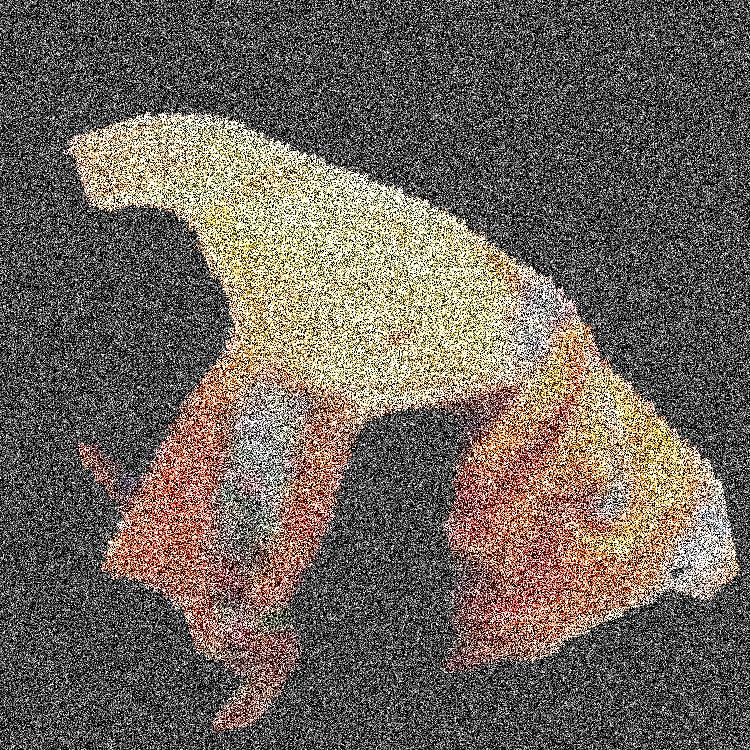Colete: (190, 0, 416, 749)
